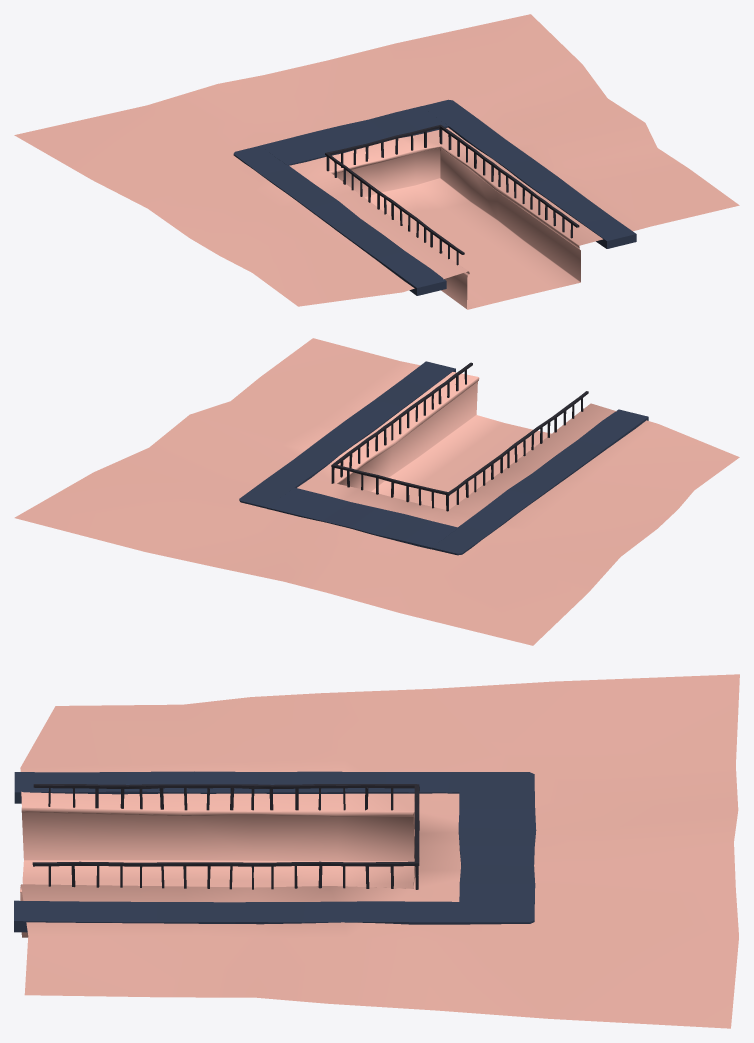
The model's file is enclosure.fbx.
3 renders of one model, top to bottom at view 1: azimuth 30°, elevation 25°; view 2: azimuth 150°, elevation 25°; view 3: azimuth 270°, elevation 25°, orthographic. The views are drawn at different scales.
Visible parts, largest first — view 1: upper.level, enclosure, sidewalk.left, sidewalk.right, sidewalk.back, railing.posts, railing; view 2: upper.level, enclosure, sidewalk.left, sidewalk.right, sidewalk.back, railing.posts, railing; view 3: upper.level, enclosure, sidewalk.right, sidewalk.left, sidewalk.back, railing, railing.posts.
Part boxes in pixels (x1=…): upper.level: x1=14, y1=14, x2=739, y2=306; enclosure: x1=333, y1=147, x2=580, y2=309; sidewalk.left: x1=233, y1=145, x2=446, y2=295; sidewalk.right: x1=422, y1=99, x2=636, y2=248; sidewalk.back: x1=260, y1=106, x2=448, y2=165; railing.posts: x1=326, y1=128, x2=572, y2=265; railing: x1=325, y1=124, x2=579, y2=254; upper.level: x1=14, y1=338, x2=739, y2=645; enclosure: x1=338, y1=381, x2=551, y2=509; sidewalk.left: x1=431, y1=409, x2=648, y2=555; sidewalk.right: x1=239, y1=361, x2=455, y2=508; sidewalk.back: x1=267, y1=487, x2=458, y2=549; railing.posts: x1=331, y1=370, x2=583, y2=511; railing: x1=331, y1=362, x2=588, y2=495; upper.level: x1=20, y1=674, x2=739, y2=1028; enclosure: x1=20, y1=811, x2=414, y2=937; sidewalk.right: x1=14, y1=900, x2=534, y2=932; sidewalk.left: x1=14, y1=771, x2=534, y2=803; sidewalk.back: x1=458, y1=791, x2=536, y2=903; railing: x1=32, y1=784, x2=419, y2=866; railing.posts: x1=48, y1=787, x2=418, y2=889.
Bounding box in the file's own units: 4552 × 470 × 3970.
